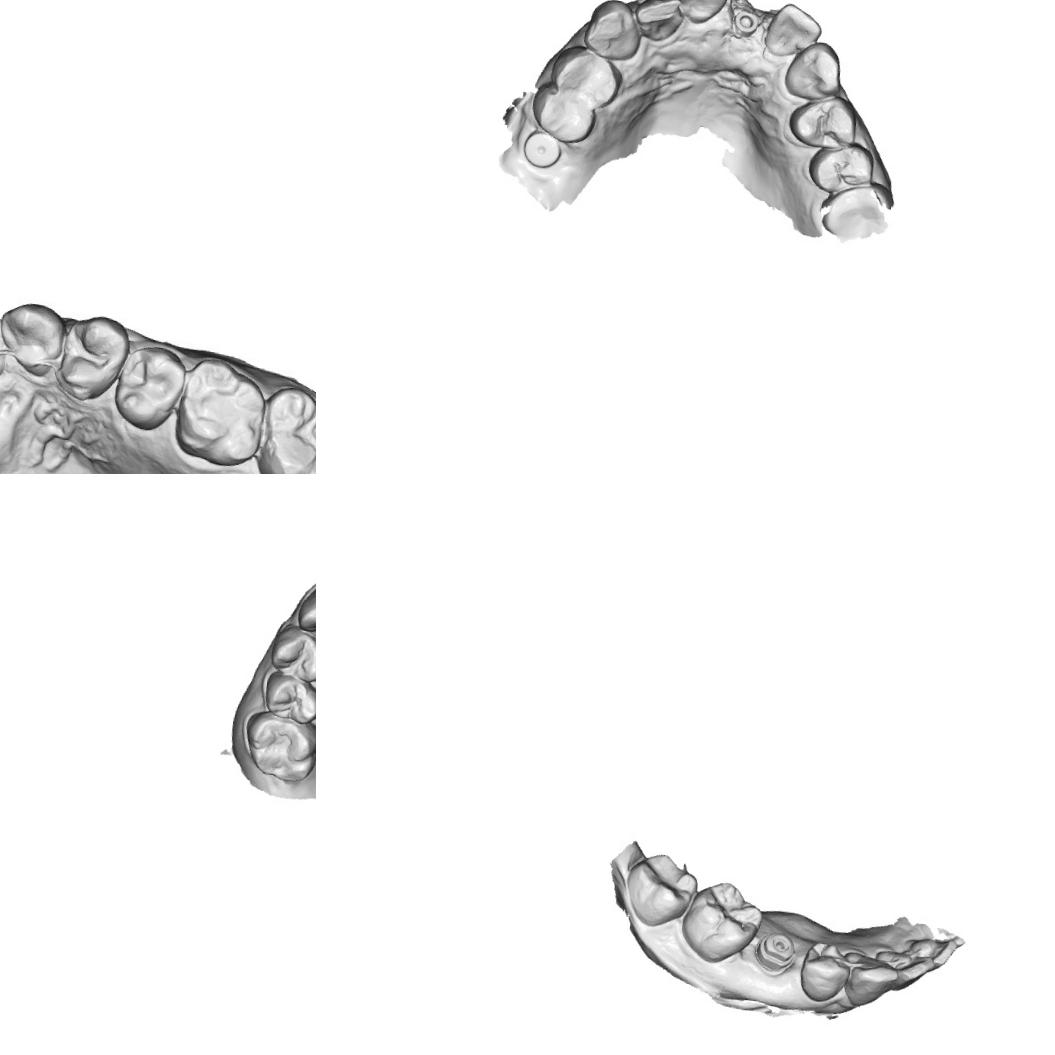canine: (0, 297, 69, 380), (780, 36, 848, 104), (580, 0, 647, 63), (837, 948, 900, 1012), (293, 579, 316, 642)
implant: (750, 928, 798, 978), (520, 128, 564, 171), (730, 7, 762, 40)
incisor: (762, 0, 826, 63), (872, 948, 937, 995), (630, 0, 688, 46), (906, 933, 958, 970), (666, 0, 734, 28)
molar: (173, 354, 270, 470), (676, 876, 766, 968), (621, 849, 702, 931), (238, 708, 316, 785), (251, 384, 316, 474), (818, 188, 894, 243)
premolar: (55, 315, 131, 405), (116, 342, 186, 427), (545, 42, 625, 110), (526, 81, 600, 148), (787, 94, 865, 151), (805, 137, 877, 198), (796, 939, 853, 1007), (260, 668, 316, 727), (265, 622, 316, 685)
